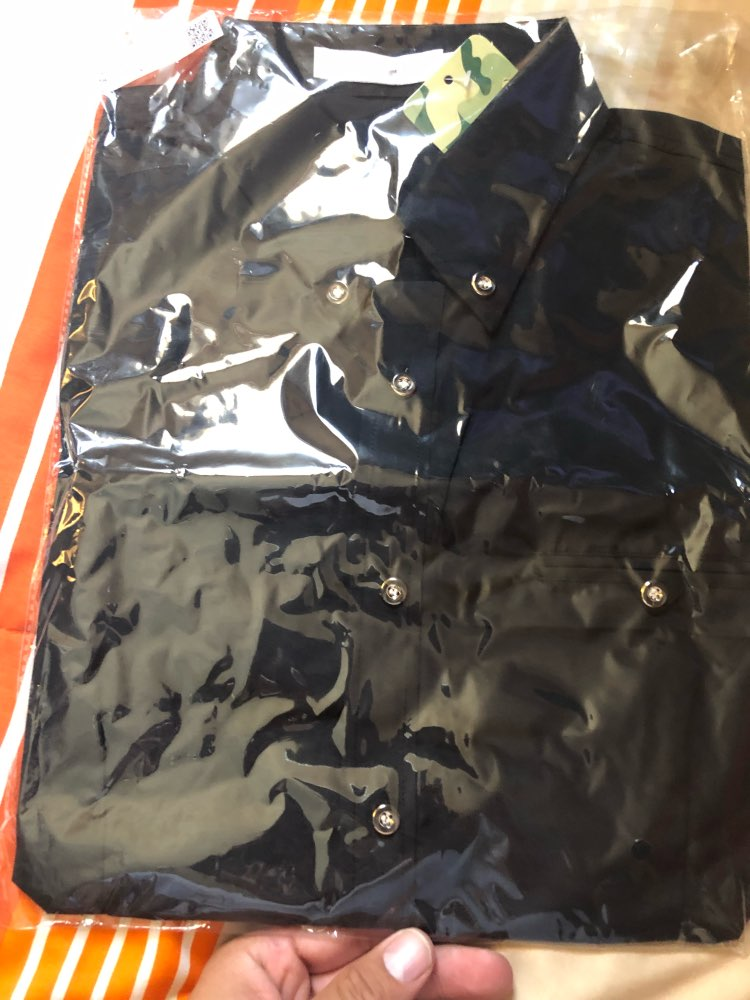shirts: (67, 24, 750, 950)
